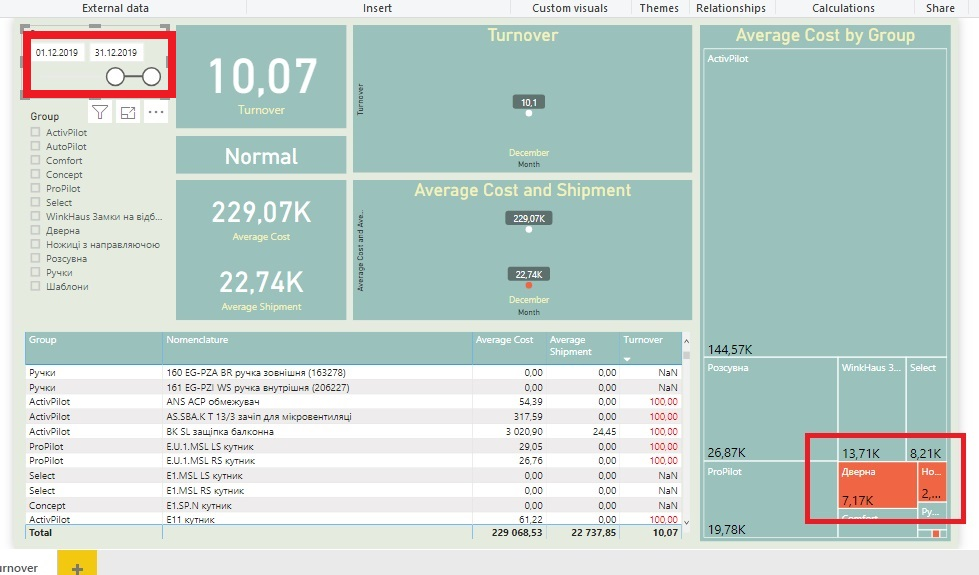

Layout of this report page (visuals, bound fields, positions):
{"tool":"powerbi","page":{"name":"Inventory Turnover","canvas":[1280,720],"ordinal":0},"visuals":[{"type":"card","title":"Total turnover (days)","fields":{"Values":["RAW_Data.Turnover"]},"box":[219.7,9.5,230.7,140],"z":0},{"type":"lineChart","title":"Turnover","fields":{"Y":["RAW_Data.Turnover"],"Category":["RAW_Data.Date.Variation.Date Hierarchy.Month","RAW_Data.Date.Variation.Date Hierarchy.Day"]},"box":[460,10,460,200],"z":1000},{"type":"tableEx","fields":{"Values":["RAW_Data.Group","RAW_Data.Nomenclature","RAW_Data.Average Daily Cost2","RAW_Data.Average_Decrease","RAW_Data.Turnover"]},"box":[9.5,420.3,911.8,290.8],"z":2000},{"type":"lineChart","title":"Average Cost and Shipment","fields":{"Category":["RAW_Data.Date.Variation.Date Hierarchy.Month","RAW_Data.Date.Variation.Date Hierarchy.Day"],"Y":["RAW_Data.Average Daily Cost2","RAW_Data.Average Shipment"]},"box":[460,220,460,190],"z":3000},{"type":"treemap","fields":{"Group":["RAW_Data.Group"],"Values":["RAW_Data.Average Daily Cost2"]},"box":[930,10,340,700],"z":4000},{"type":"slicer","fields":{"Values":["RAW_Data.Date"]},"box":[10,10,200,100],"z":6001},{"type":"slicer","fields":{"Values":["RAW_Data.Group"]},"box":[10,120,200,290],"z":6002},{"type":"card","fields":{"Values":["RAW_Data.Average Cost"]},"box":[219.7,219.7,230.7,94.8],"z":6003},{"type":"card","fields":{"Values":["RAW_Data.Average Shipment"]},"box":[219.7,314.5,230.7,94.8],"z":6004},{"type":"card","fields":{"Values":["RAW_Data.Turnover Ranges"]},"box":[219.7,159.6,230.7,50.6],"z":6005}]}

Visuals, with their boxes on the page's 1280x720 design canvas (x1, y1, x2, y2). These are canvas units, not pixel positions in the 979x575 screenshot, which may show the page scaled, cropped or inside an application window:
"Total turnover (days)" card: box=[220, 10, 450, 150]
"Turnover" lineChart: box=[460, 10, 920, 210]
tableEx - RAW_Data.Group x RAW_Data.Nomenclature: box=[10, 420, 921, 711]
"Average Cost and Shipment" lineChart: box=[460, 220, 920, 410]
treemap - RAW_Data.Group x RAW_Data.Average Daily Cost2: box=[930, 10, 1270, 710]
slicer - RAW_Data.Date: box=[10, 10, 210, 110]
slicer - RAW_Data.Group: box=[10, 120, 210, 410]
card - RAW_Data.Average Cost: box=[220, 220, 450, 314]
card - RAW_Data.Average Shipment: box=[220, 314, 450, 409]
card - RAW_Data.Turnover Ranges: box=[220, 160, 450, 210]
